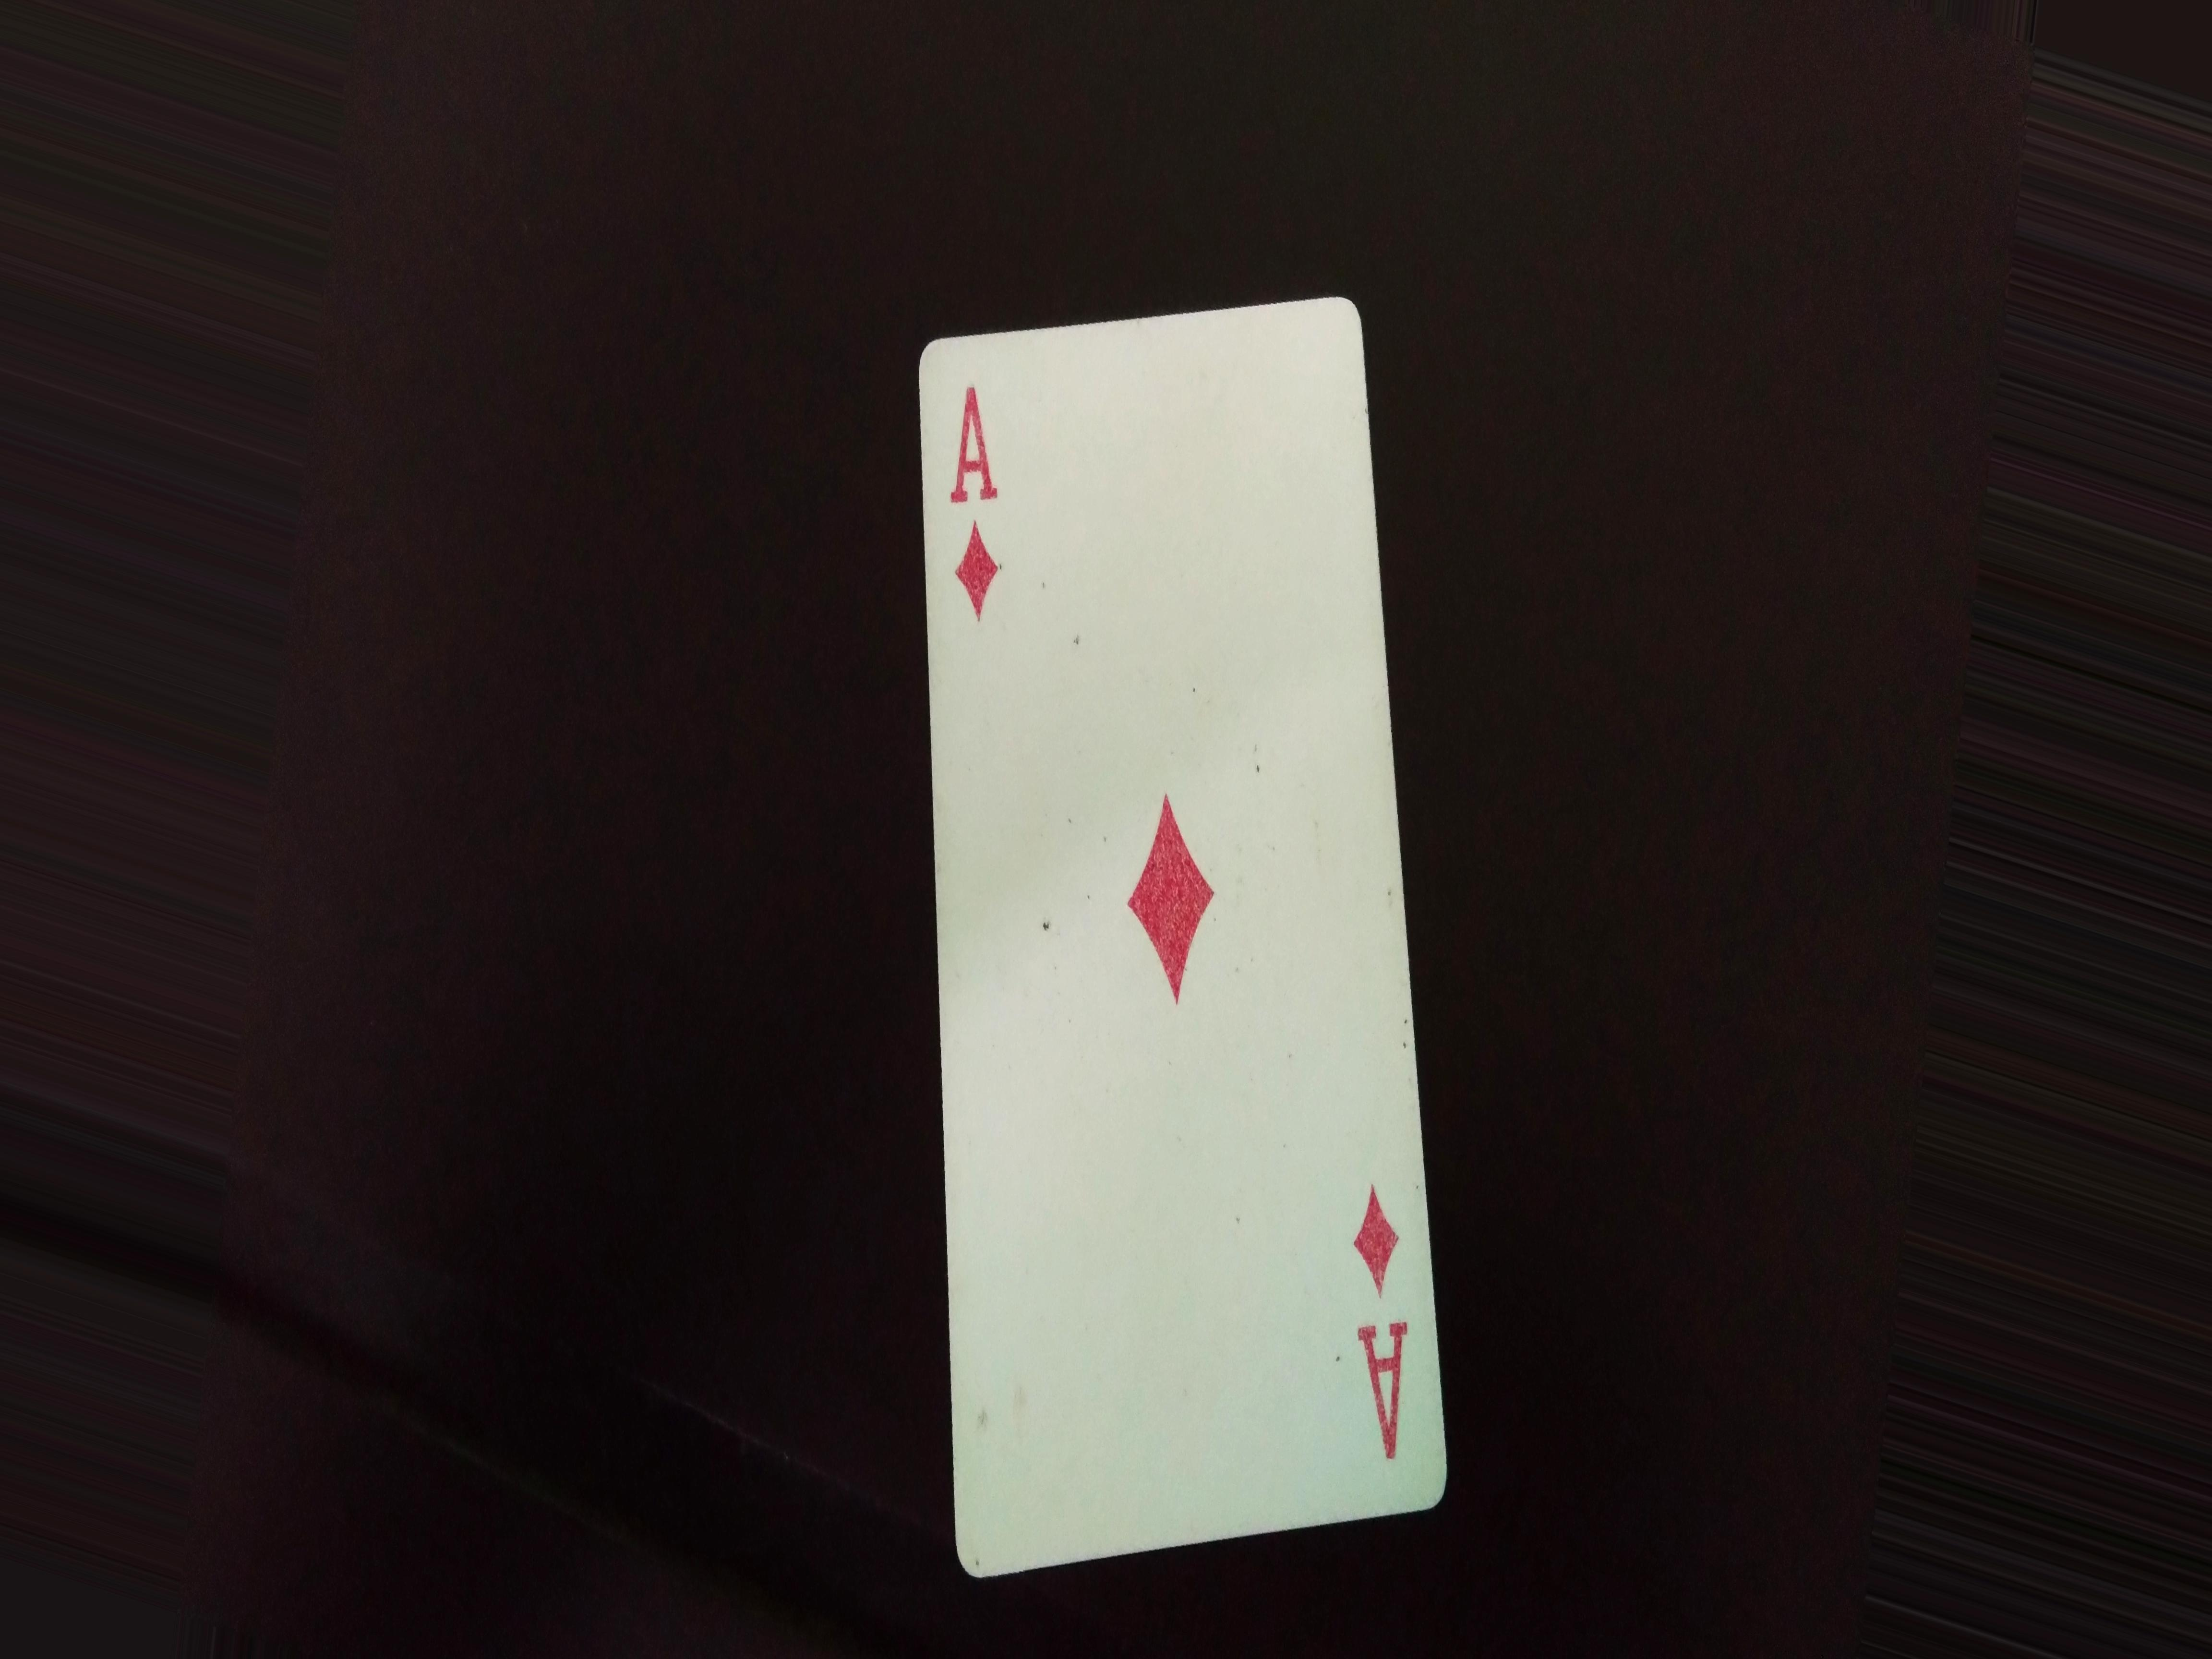AD: (944, 366, 1005, 631)
